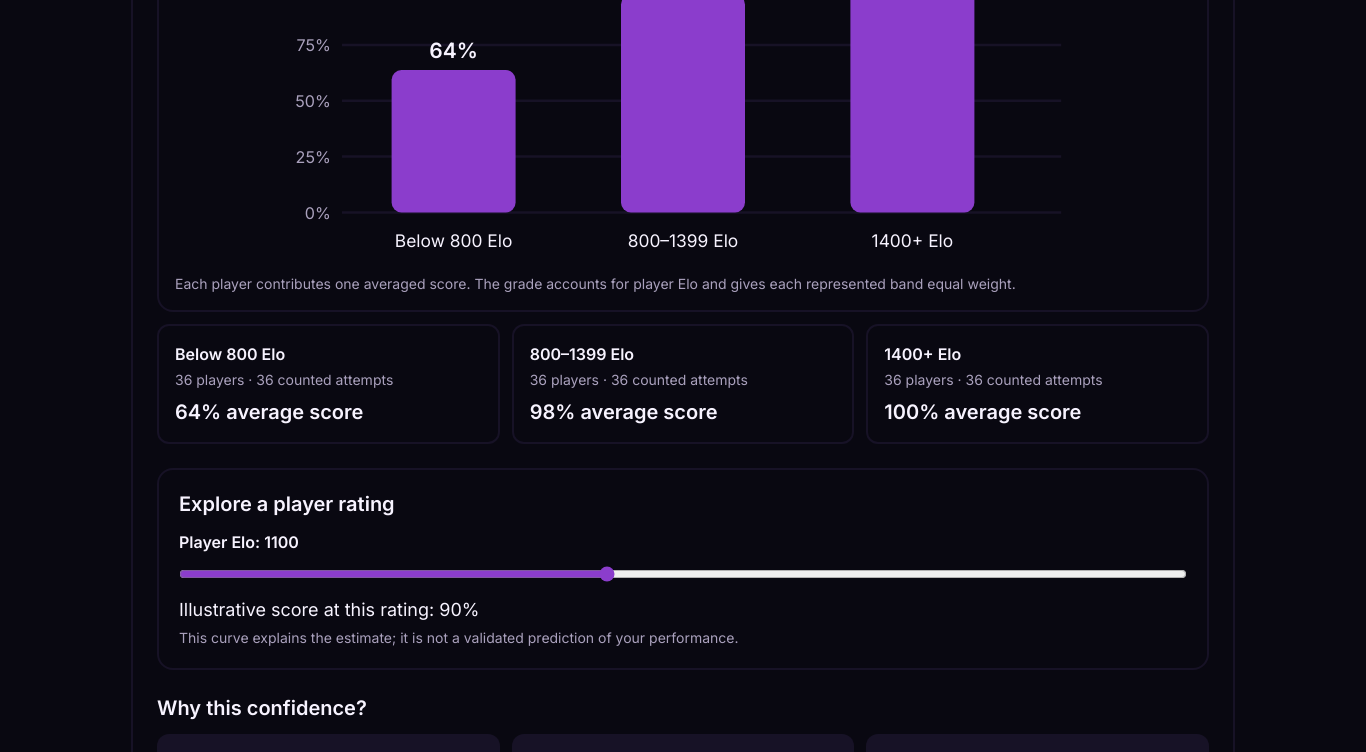
Test: scenario difficulty explorer › explains bands, a continuous rating illustration, and capped repeat evidence
The width and height of the screenshot is (1366, 752).
(page scrolled)
Click the button "Below 800 Elo". click: x=328, y=384
box: [157,324,500,444]
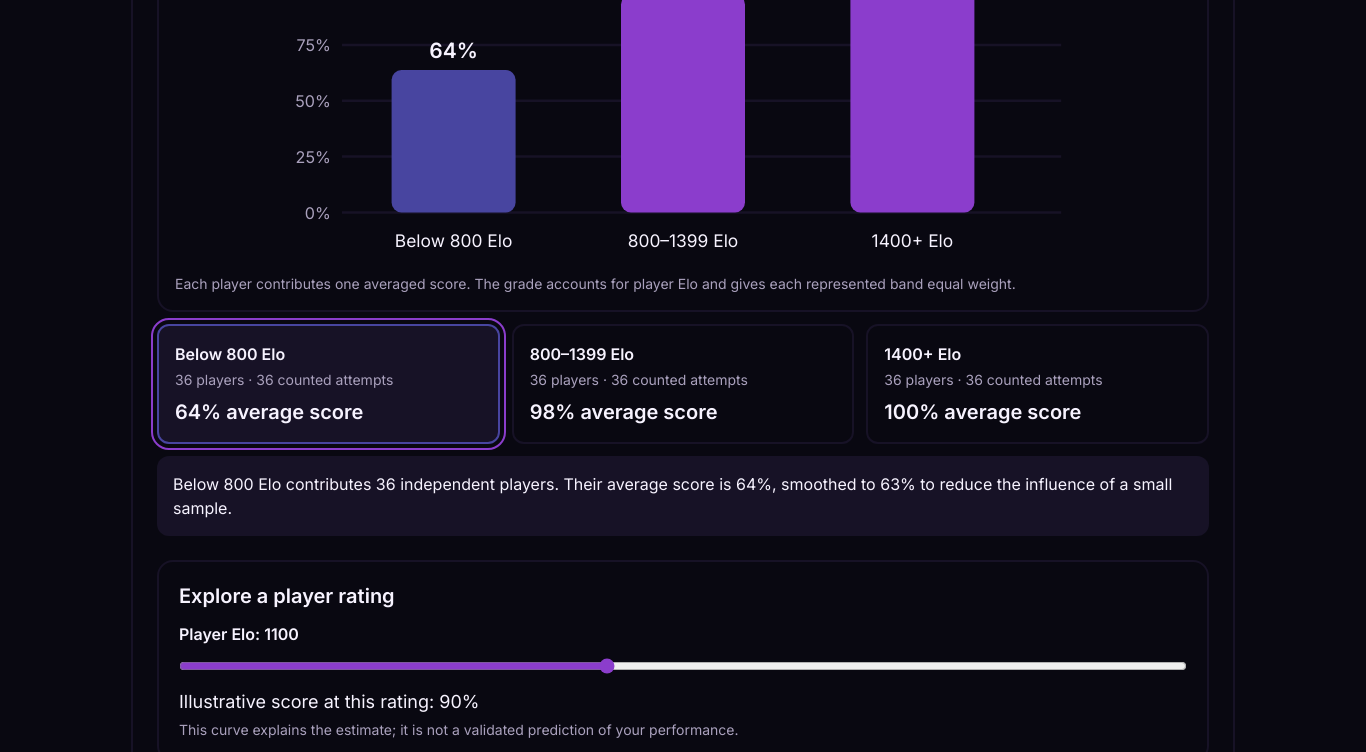
Now the text "Below 800 Elo contributes 36 independent players" is shown, box [173,474,1172,518]
Set the slider labelled "Player Elo: 1100" to "2000". click: x=950, y=666
box: [179,658,1187,674]
(page scrolled)
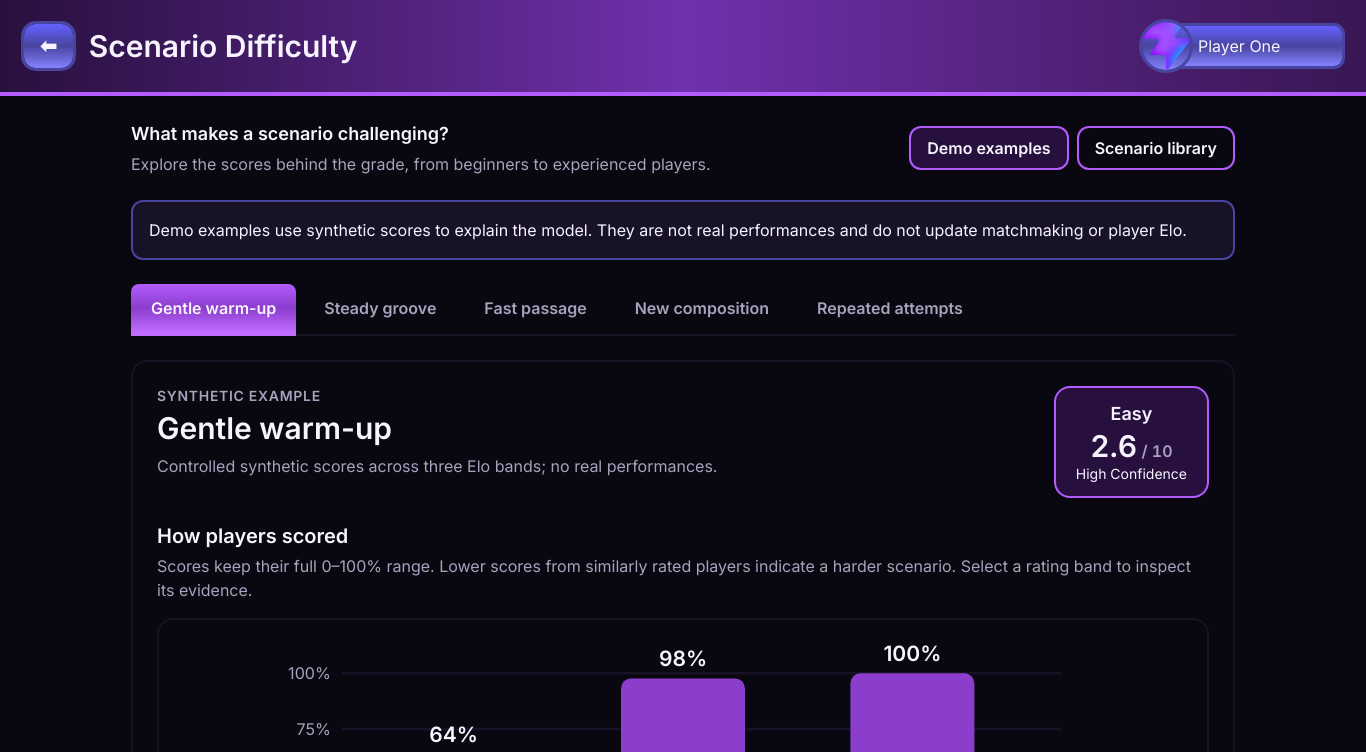
Click the tab "Repeated attempts". click: x=890, y=310
box: [797,284,983,336]
(page scrolled)
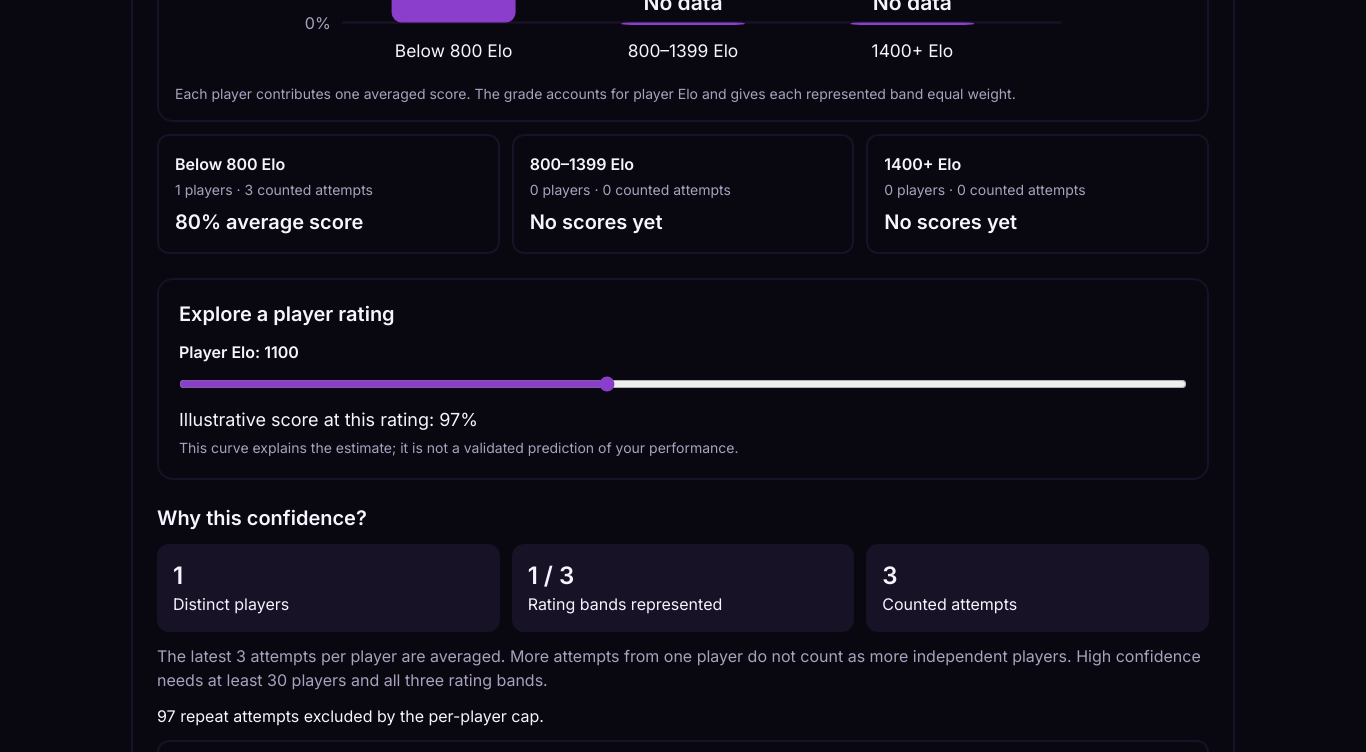
Now the text "97 repeat attempts excluded by the per-player cap." is shown, box [157,706,544,726]
Now the slider labelled "Player Elo: 1100" holds "1100", box [179,376,1187,392]
